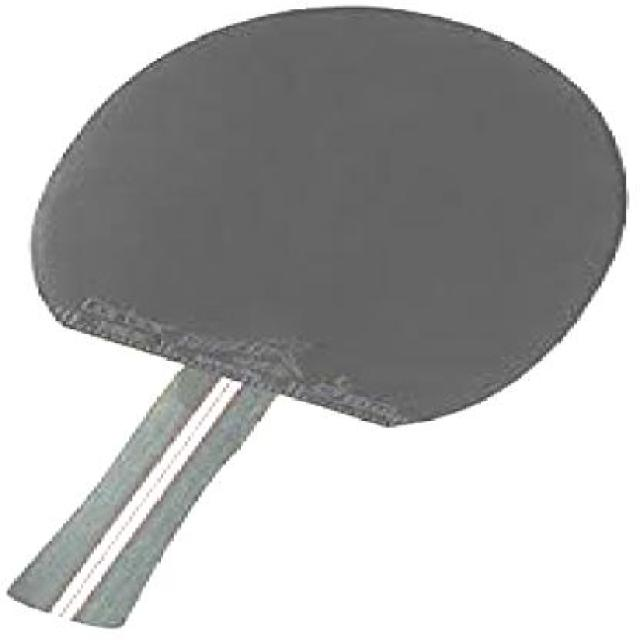table_tennis_racket: (27, 0, 636, 438)
